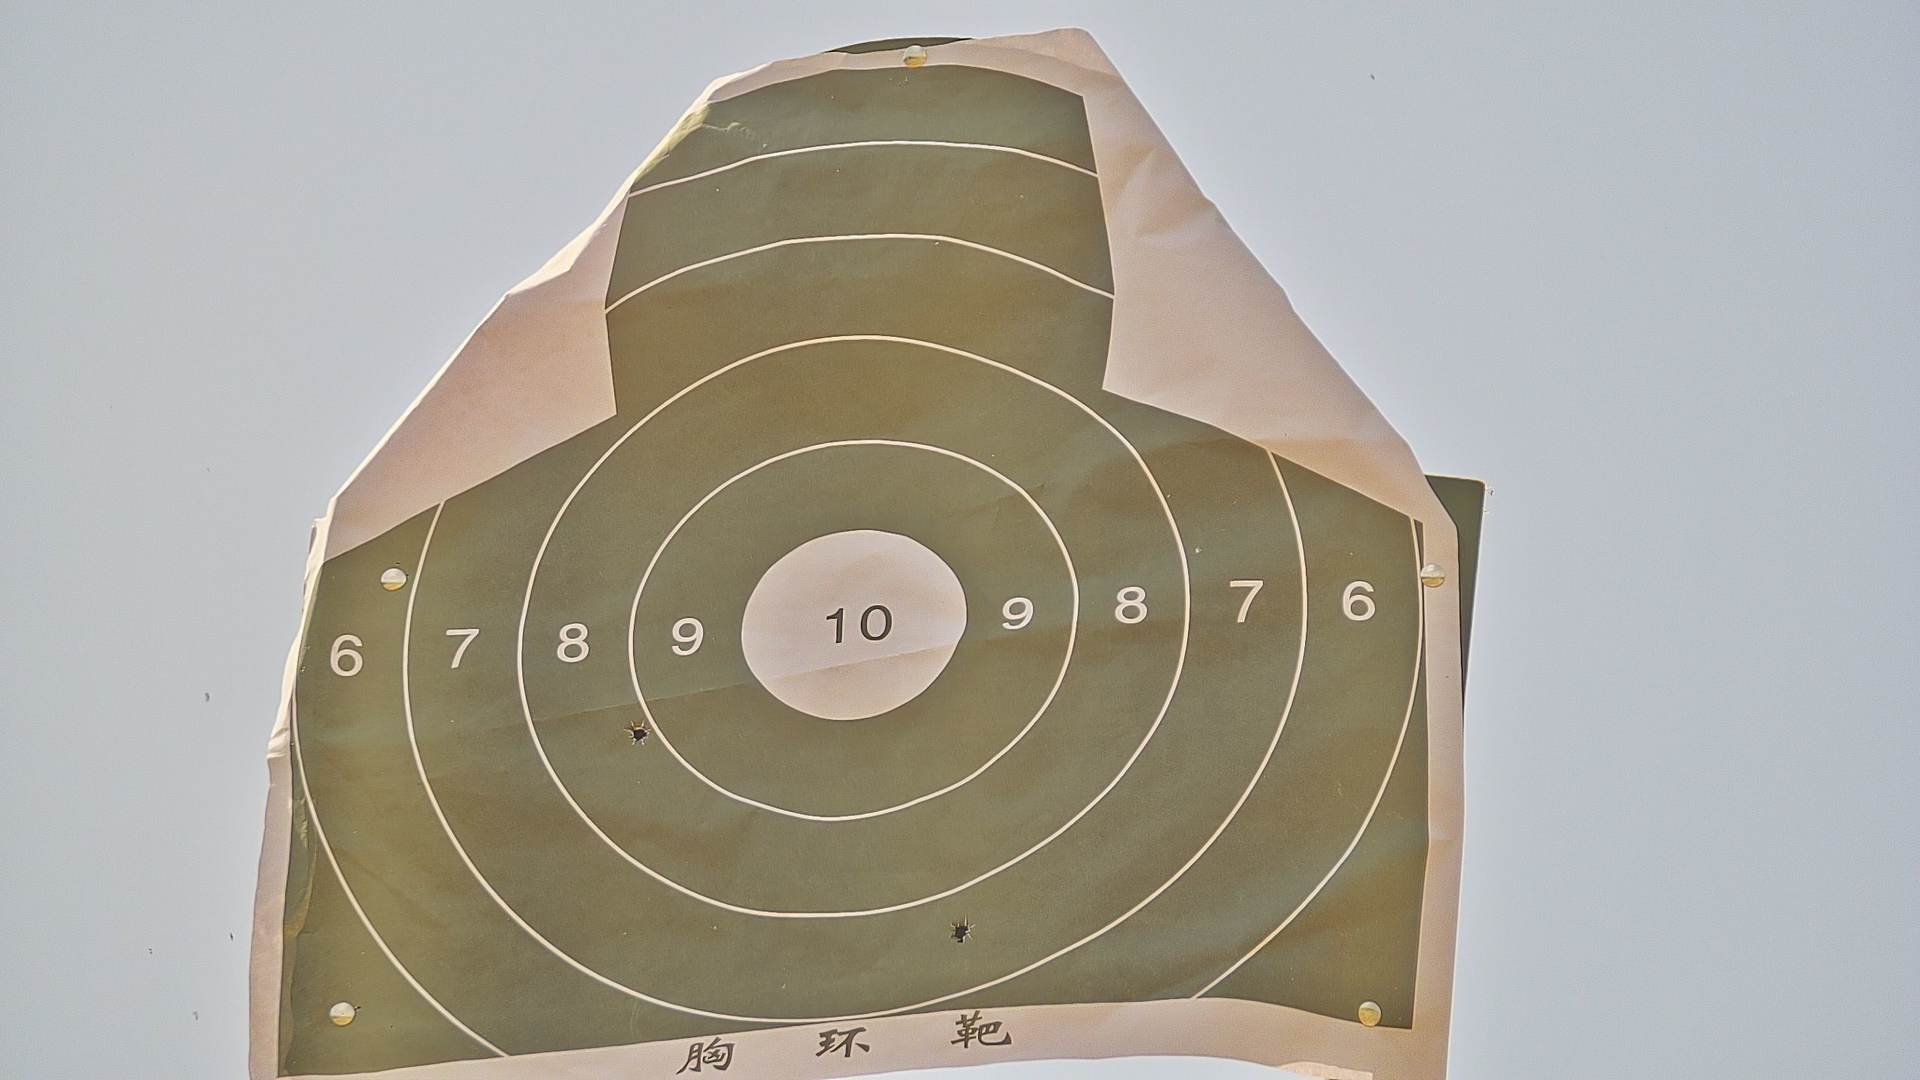hole: (952, 923, 971, 945), (632, 728, 647, 742)
kernel: (844, 622, 853, 626)
target: (276, 69, 1433, 1059)
ten: (732, 525, 977, 720)
